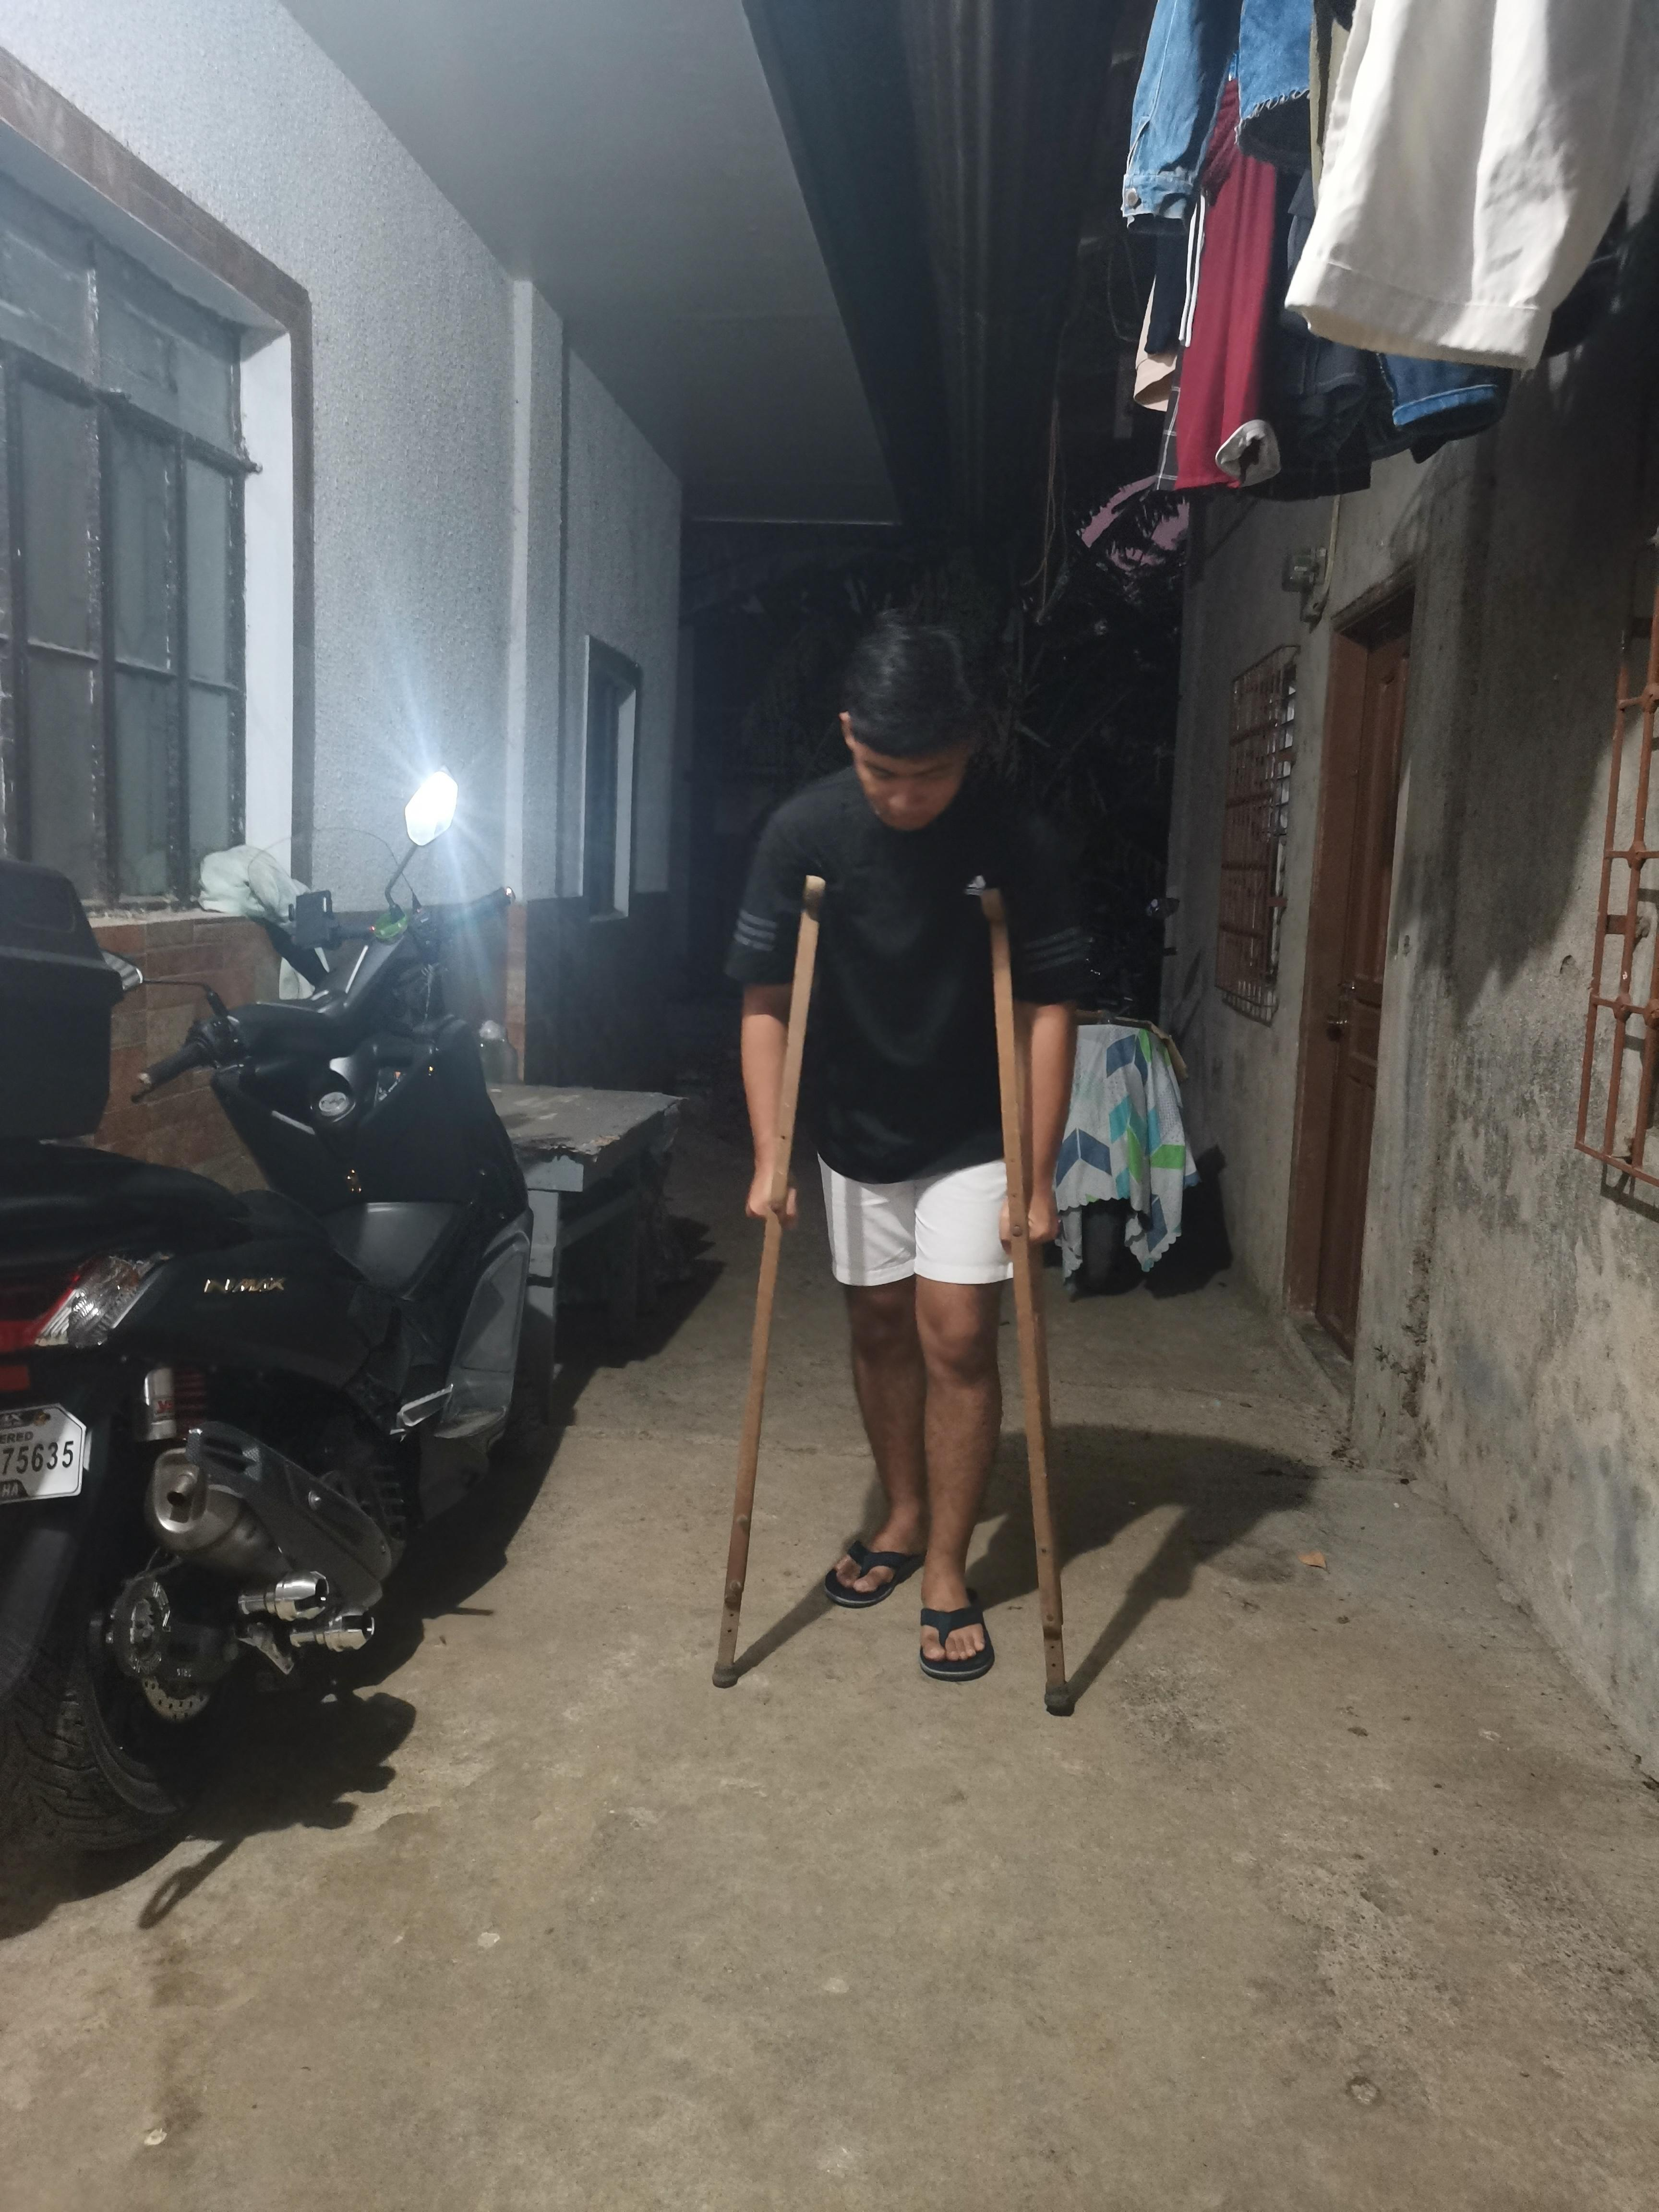crutches: (702, 587, 1094, 1731)
